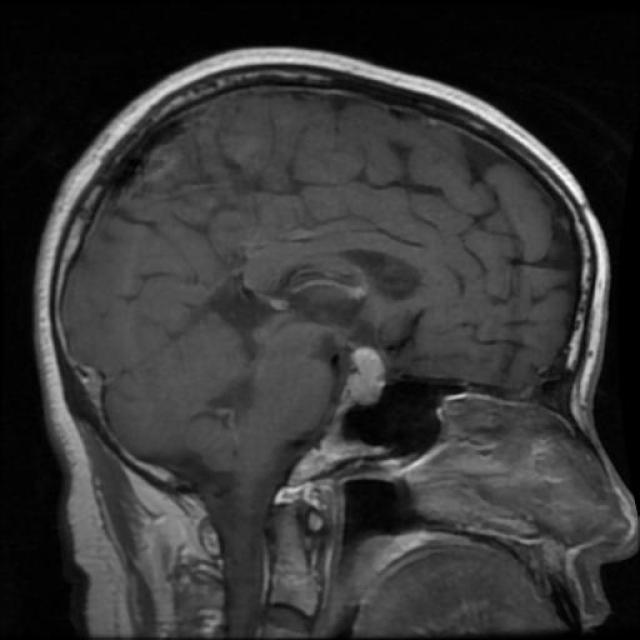pituitary: (318, 338, 399, 427)
